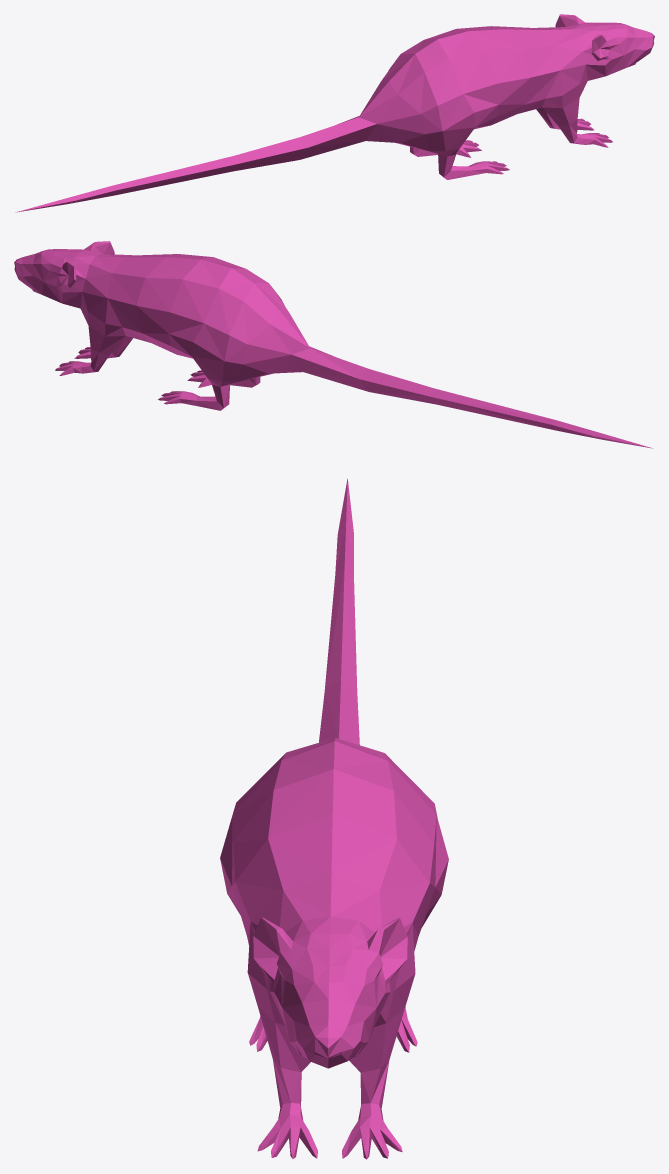
File: animal04.FBX
3 views of the same model, one above another, from view 1: azimuth 30°, elevation 25°; view 2: azimuth 150°, elevation 25°; view 3: azimuth 270°, elevation 25° (orthographic). The views are drawn at different scales.
Visible parts, largest first — view 1: Rat; view 2: Rat; view 3: Rat.
Boxes of the visible parts, bbox=[...] form: Rat: bbox=[15, 14, 654, 212]; Rat: bbox=[14, 241, 653, 448]; Rat: bbox=[220, 478, 448, 1159].
Bounding box in the file's own units: 93.07 × 18.47 × 14.5.
